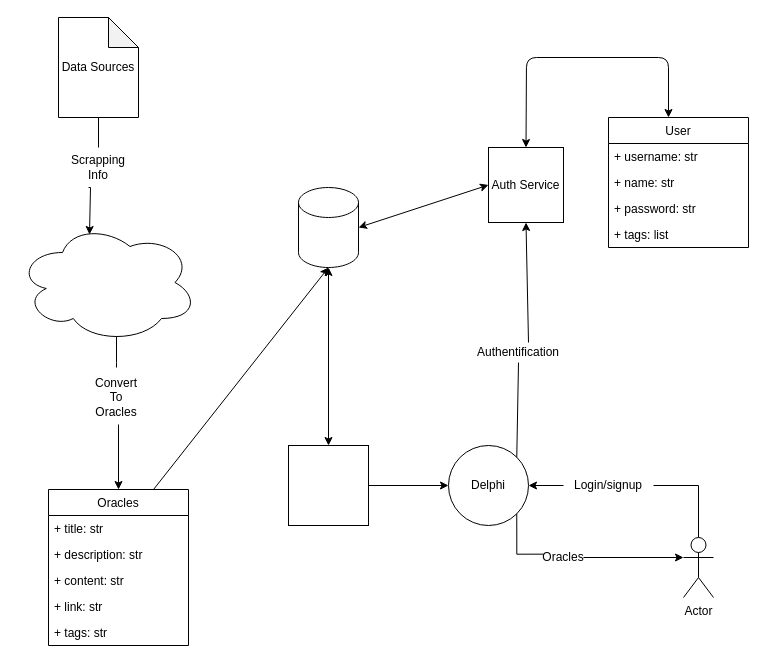
Some shapes in this 766 by 666 pixel diagram are drawn without their labels. Each missing label, with the box of its shape:
mongodb: (298, 186, 358, 268)
Oracles Service: (288, 444, 368, 526)
Scrapper Services: (16, 222, 198, 342)
